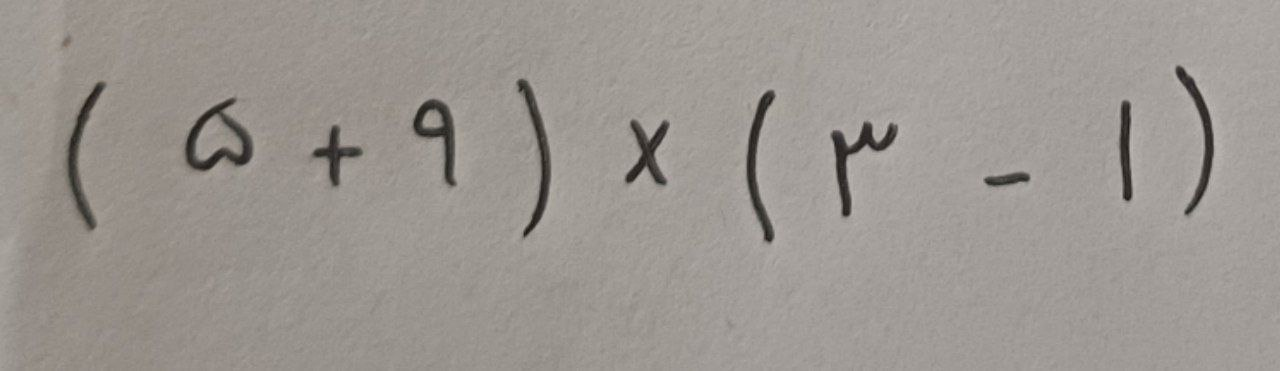character: (66, 83, 110, 242), (832, 120, 903, 217), (1177, 63, 1219, 218), (185, 97, 255, 171), (516, 79, 548, 239), (746, 90, 775, 241), (411, 99, 455, 186), (314, 124, 364, 188), (623, 119, 669, 188), (1117, 102, 1135, 207), (982, 167, 1032, 188)
